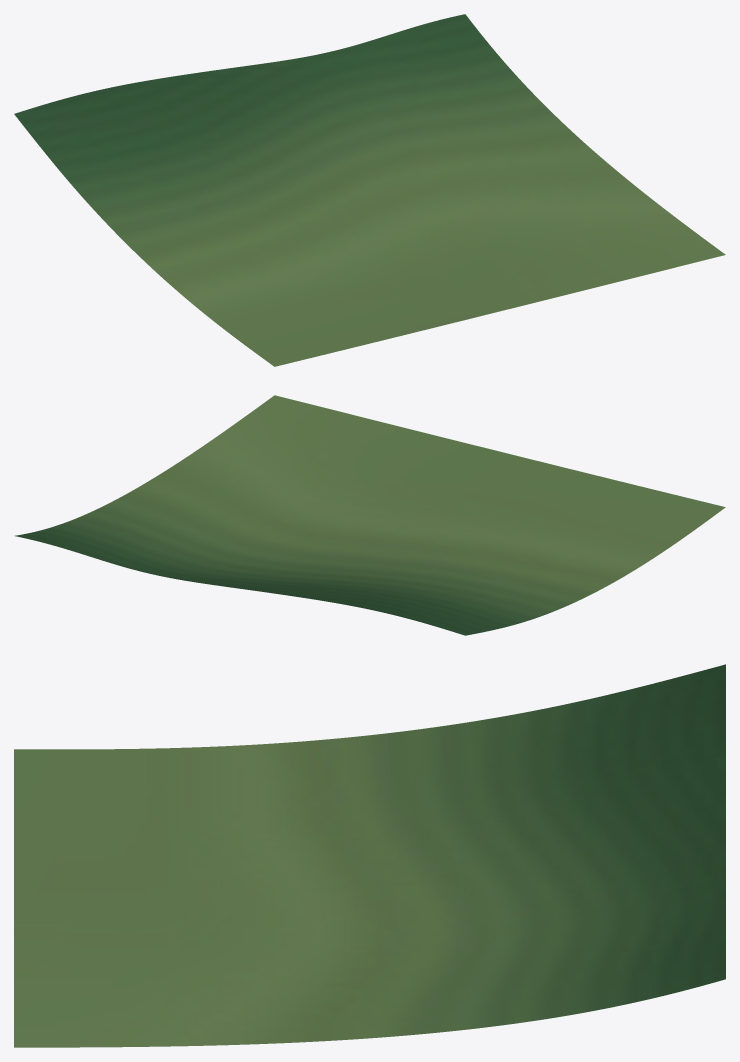
The model's file is terrain_T_E00_N05.glb.
3 renders of one model, top to bottom at view 1: azimuth 30°, elevation 25°; view 2: azimuth 150°, elevation 25°; view 3: azimuth 270°, elevation 25°, orthographic. The views are drawn at different scales.
Visible parts, largest first — view 1: Terrain_T_E00_N05; view 2: Terrain_T_E00_N05; view 3: Terrain_T_E00_N05.
Boxes of the visible parts, x1,y1,x2,y2 form: Terrain_T_E00_N05: [14, 14, 725, 366]; Terrain_T_E00_N05: [15, 395, 725, 635]; Terrain_T_E00_N05: [14, 664, 725, 1047].
Bounding box in the file's own units: 2000 × 277 × 2000.
Materials: 1 (1 with a texture image).
